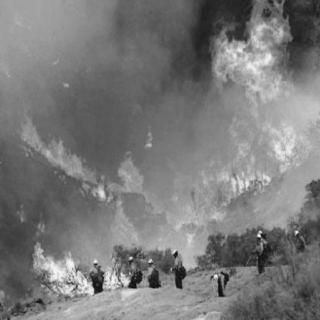Fire: (18, 111, 144, 207)
